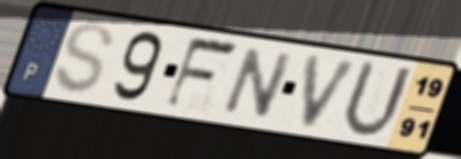9: (111, 31, 165, 103)
F: (160, 34, 243, 113)
N: (217, 45, 298, 122)
S: (51, 20, 117, 97)
U: (337, 56, 417, 141)
V: (299, 53, 364, 132)
